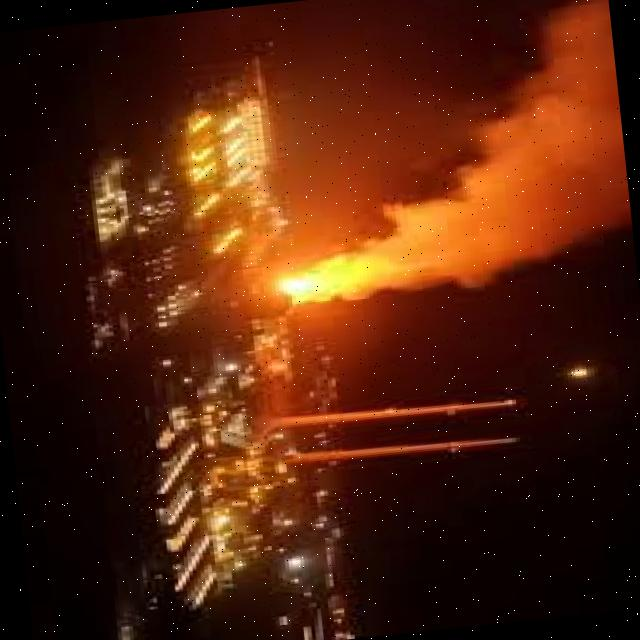explosion: (175, 0, 631, 340)
